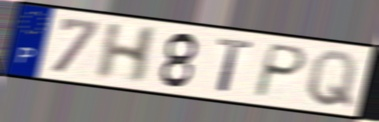7: (52, 15, 102, 77)
8: (159, 31, 198, 89)
H: (92, 22, 161, 85)
P: (250, 41, 310, 100)
Q: (305, 49, 359, 111)
T: (214, 36, 256, 95)
